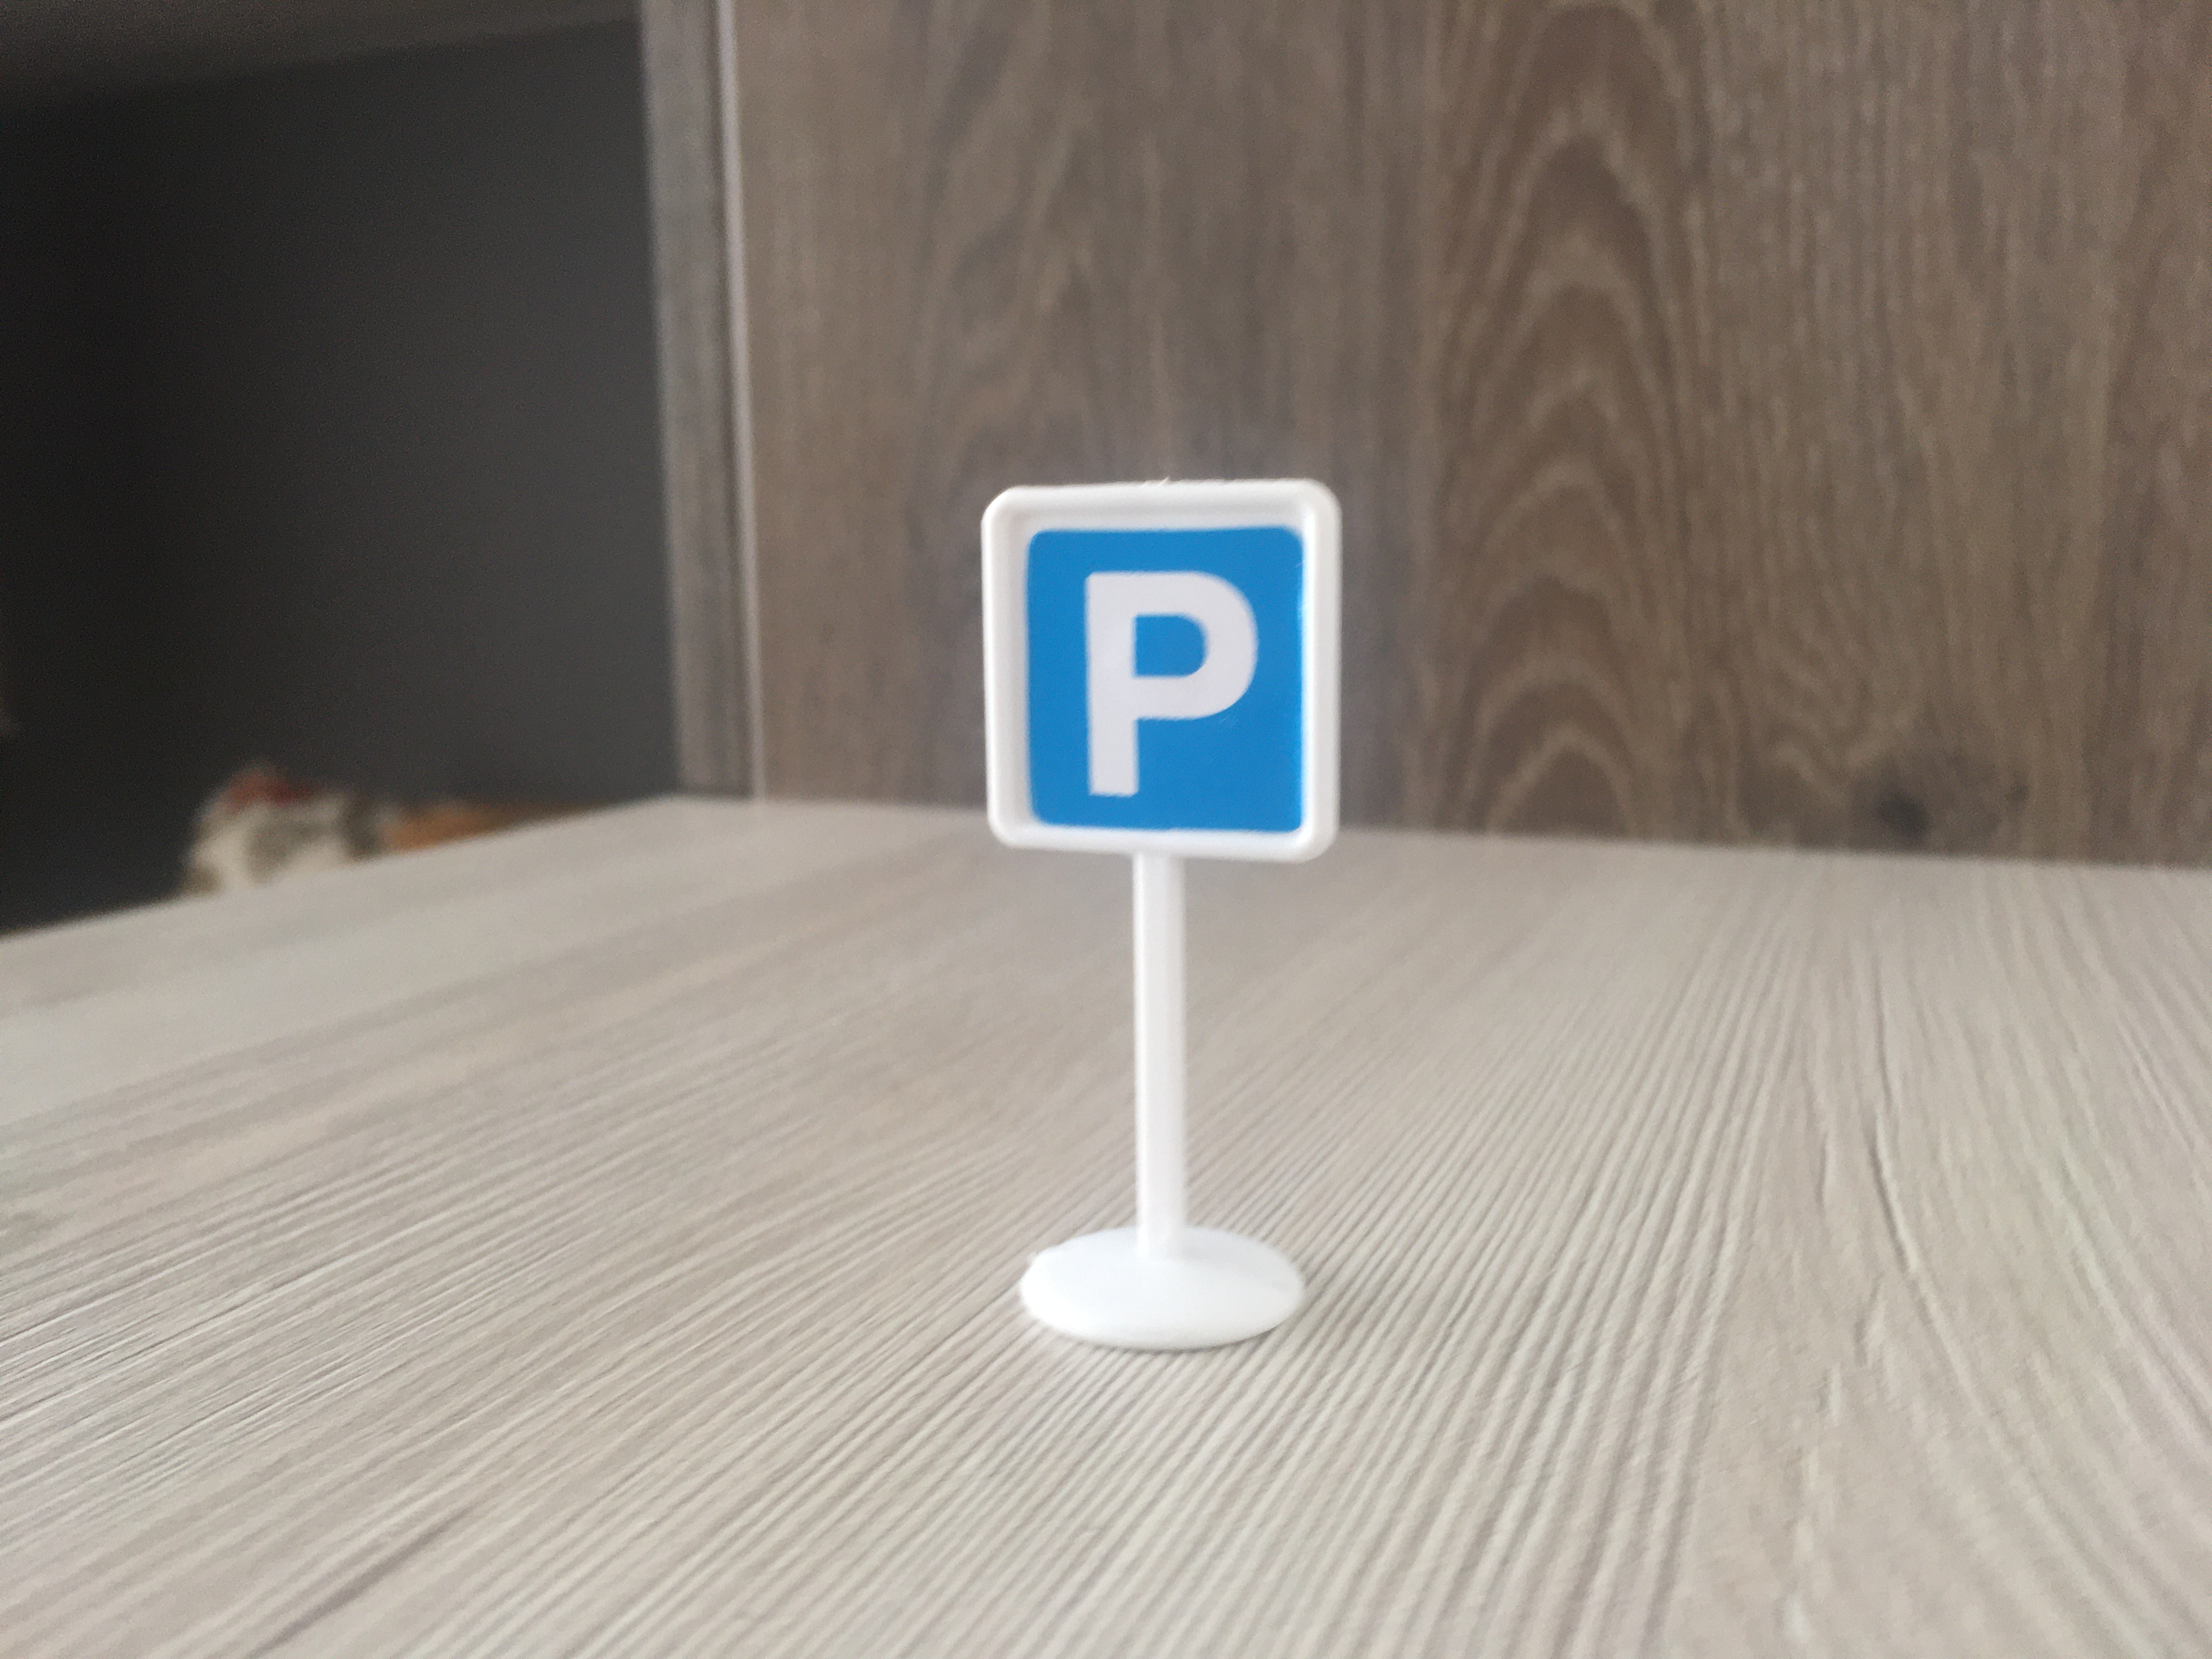parking: (972, 477, 1338, 866)
